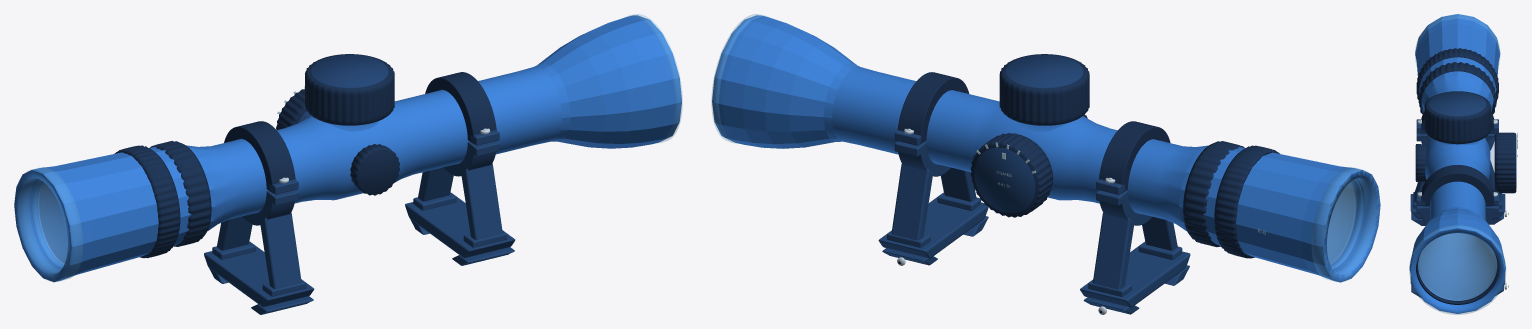
Rendered from R8_Prism_8x_BlueCrystal_A5_Rail.glb.
3 views of the same model, side by side, from view 1: azimuth 30°, elevation 25°; view 2: azimuth 150°, elevation 25°; view 3: azimuth 270°, elevation 25° (orthographic). The views are drawn at different scales.
Parts seen in each view (by area): view 1: 01 SHELL | curved objective and long rear neck, 11 TOP CAP RIM, 05 REAR LIP | dark scallop, 09 REAR COLLAR B | fine grooves, 08 REAR COLLAR A | wide shallow grooves, 25.0 LOCAL CROWN | independent seat, 25.1 LOCAL CROWN | independent seat, 23.0.-1 SUPPORT ARM, 23.1.-1 SUPPORT ARM, 17.1 RING UPPER, 17.0 RING UPPER, 12 TOP CAP FACE (+11 smaller); view 2: 01 SHELL | curved objective and long rear neck, 11 TOP CAP RIM, 14 RIGHT CAP RIM, 05 REAR LIP | dark scallop, 15 RIGHT CAP FACE, 09 REAR COLLAR B | fine grooves, 08 REAR COLLAR A | wide shallow grooves, 25.1 LOCAL CROWN | independent seat, 25.0 LOCAL CROWN | independent seat, 23.0.1 SUPPORT ARM, 23.1.1 SUPPORT ARM, 17.0 RING UPPER (+9 smaller); view 3: 01 SHELL | curved objective and long rear neck, 04 FRONT PANE | deep blue coat, 11 TOP CAP RIM, 17.0 RING UPPER, 14 RIGHT CAP RIM, 12 TOP CAP FACE, 09 REAR COLLAR B | fine grooves, 08 REAR COLLAR A | wide shallow grooves, 02 FRONT LIP | fine rim, 03 FRONT INNER | matte rim, 05 REAR LIP | dark scallop, 16 LEFT SMALL CAP (+8 smaller).
Boxes of the visible parts, x1,y1,x2,y2 form: 01 SHELL | curved objective and long rear neck: (14, 15, 681, 282); 11 TOP CAP RIM: (305, 54, 394, 125); 05 REAR LIP | dark scallop: (15, 167, 82, 281); 09 REAR COLLAR B | fine grooves: (114, 145, 180, 258); 08 REAR COLLAR A | wide shallow grooves: (150, 141, 211, 246); 25.0 LOCAL CROWN | independent seat: (405, 193, 515, 257); 25.1 LOCAL CROWN | independent seat: (204, 243, 314, 307); 23.0.-1 SUPPORT ARM: (461, 163, 502, 240); 23.1.-1 SUPPORT ARM: (260, 212, 301, 289); 17.1 RING UPPER: (224, 121, 295, 192); 17.0 RING UPPER: (425, 72, 496, 143); 12 TOP CAP FACE: (311, 55, 388, 87); 01 SHELL | curved objective and long rear neck: (712, 15, 1380, 282); 11 TOP CAP RIM: (999, 54, 1089, 125); 14 RIGHT CAP RIM: (970, 133, 1052, 217); 05 REAR LIP | dark scallop: (1312, 167, 1379, 281); 15 RIGHT CAP FACE: (974, 148, 1034, 212); 09 REAR COLLAR B | fine grooves: (1214, 145, 1279, 258); 08 REAR COLLAR A | wide shallow grooves: (1183, 141, 1244, 247); 25.1 LOCAL CROWN | independent seat: (1080, 245, 1190, 307); 25.0 LOCAL CROWN | independent seat: (878, 195, 988, 258); 23.0.1 SUPPORT ARM: (891, 164, 932, 240); 23.1.1 SUPPORT ARM: (1093, 213, 1134, 289); 17.0 RING UPPER: (897, 72, 969, 144); 01 SHELL | curved objective and long rear neck: (1409, 14, 1505, 313); 04 FRONT PANE | deep blue coat: (1418, 233, 1496, 300); 11 TOP CAP RIM: (1424, 91, 1490, 144); 17.0 RING UPPER: (1420, 165, 1494, 206); 14 RIGHT CAP RIM: (1494, 132, 1516, 193); 12 TOP CAP FACE: (1429, 92, 1485, 116); 09 REAR COLLAR B | fine grooves: (1416, 48, 1498, 103); 08 REAR COLLAR A | wide shallow grooves: (1419, 62, 1496, 114); 02 FRONT LIP | fine rim: (1409, 225, 1505, 314); 03 FRONT INNER | matte rim: (1416, 252, 1499, 304); 05 REAR LIP | dark scallop: (1415, 14, 1499, 66); 16 LEFT SMALL CAP: (1415, 144, 1426, 181).
Bounding box in the file's own units: 0.3098 × 0.0967 × 0.065.
